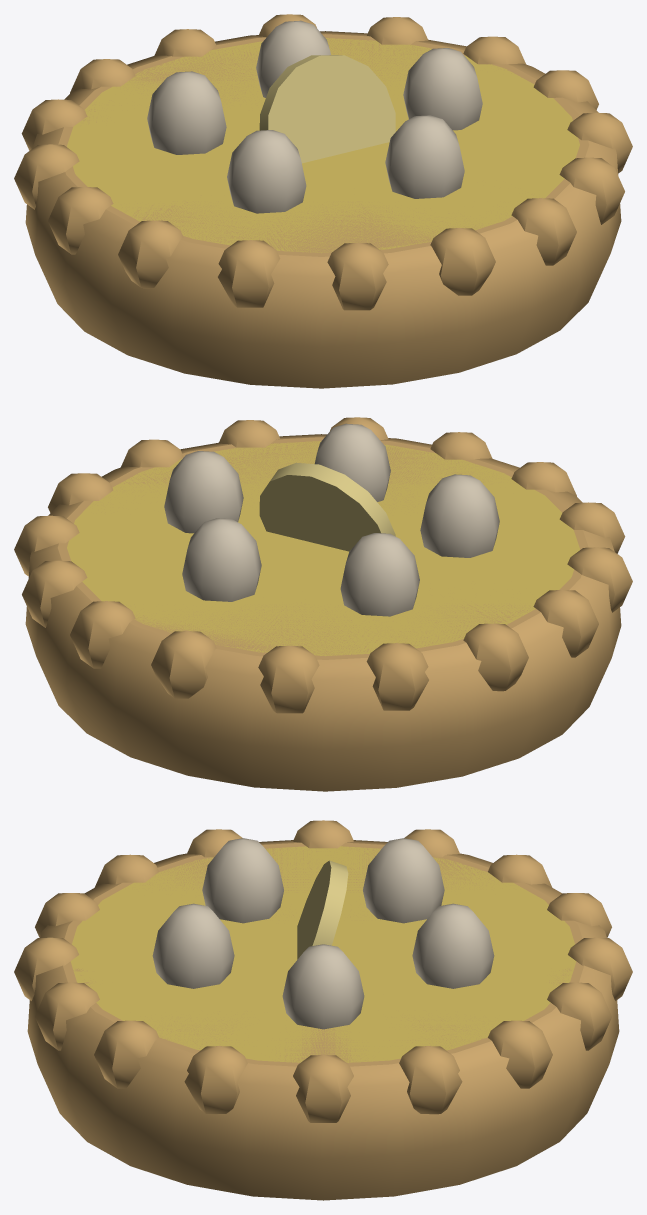
Rendered from kitchen_lemon_tart.glb.
3 renders of one model, top to bottom at view 1: azimuth 30°, elevation 25°; view 2: azimuth 150°, elevation 25°; view 3: azimuth 270°, elevation 25°, orthographic.
Parts seen in each view (by area): view 1: kitchen_lemon_tart; view 2: kitchen_lemon_tart; view 3: kitchen_lemon_tart.
Part boxes in pixels (x1=…): kitchen_lemon_tart: x1=14, y1=14, x2=632, y2=388; kitchen_lemon_tart: x1=14, y1=417, x2=632, y2=791; kitchen_lemon_tart: x1=14, y1=820, x2=632, y2=1200.
Size of what is drawn, in the model's own units: 0.13 by 0.05 by 0.13.
